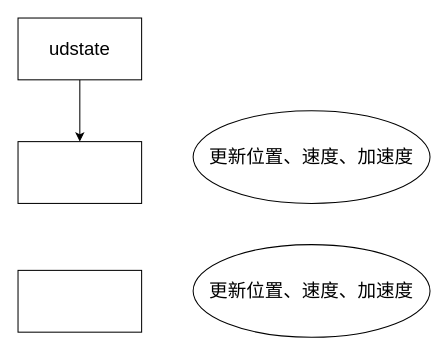
The diagram is 448 pixels wide and 355 high, and some of its shapes have lost their labels. Each missing label, with the box of its shape:
udbias: (17, 269, 142, 332)
udpos: (17, 141, 142, 203)
